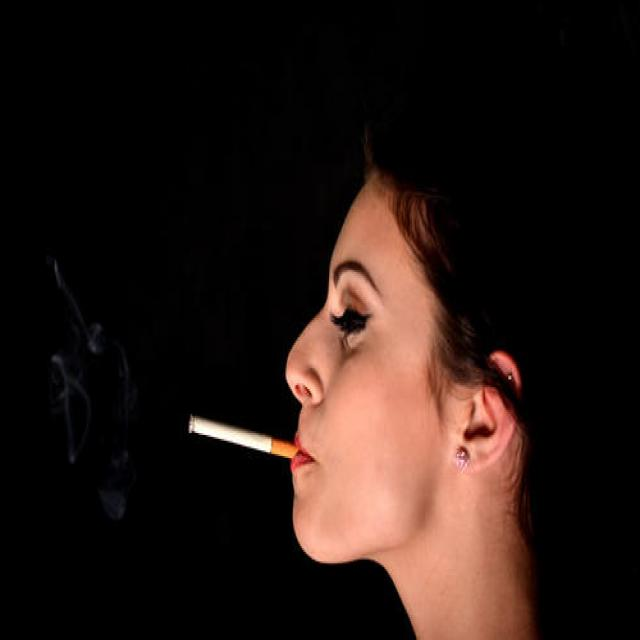smoking: (188, 416, 300, 459)
